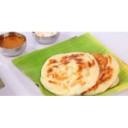parota: (42, 54, 99, 93)
